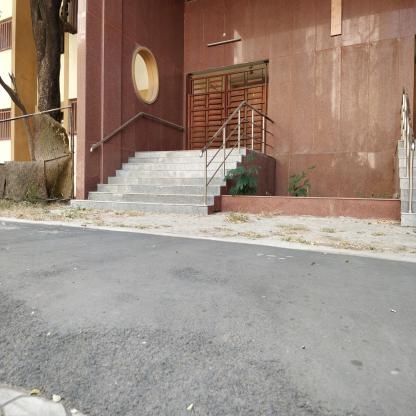stairs: (135, 149, 200, 219)
